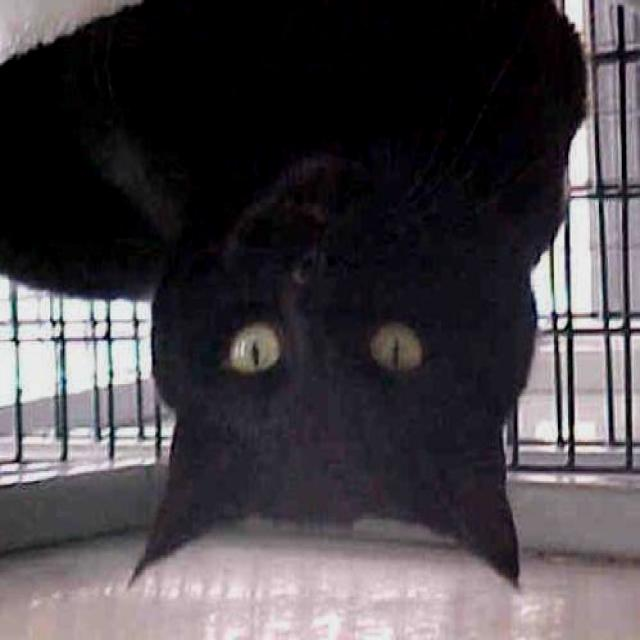Kucing: (25, 18, 598, 632)
